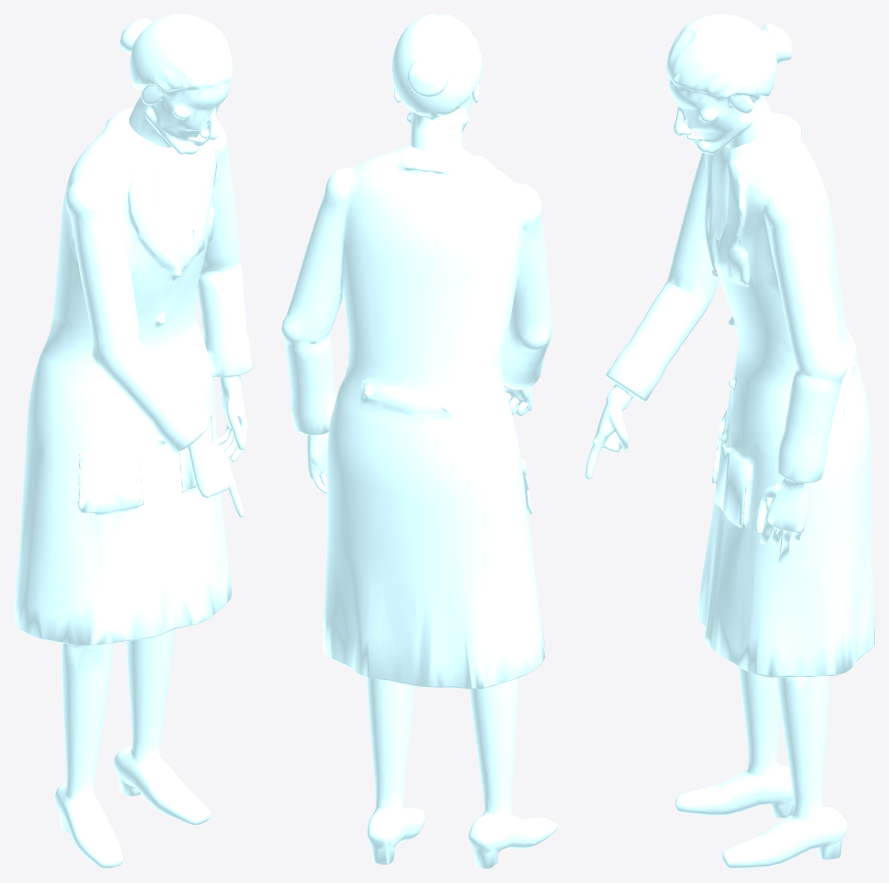
File: echo_leyla_standing.glb
3 views of the same model, side by side, from view 1: azimuth 30°, elevation 25°; view 2: azimuth 150°, elevation 25°; view 3: azimuth 270°, elevation 25° (orthographic). The views are drawn at different scales.
Visible parts, largest first — view 1: echo_body, echo_head; view 2: echo_body, echo_head; view 3: echo_body, echo_head.
Part boxes in pixels (box(x1,y1,x2,y2)): echo_body: box(14, 107, 252, 868); echo_head: box(119, 14, 233, 154); echo_body: box(281, 144, 556, 868); echo_head: box(391, 14, 483, 151); echo_body: box(585, 112, 874, 868); echo_head: box(665, 14, 792, 154).
Bounding box in the file's own units: 0.5038 × 1.66 × 0.5198.
